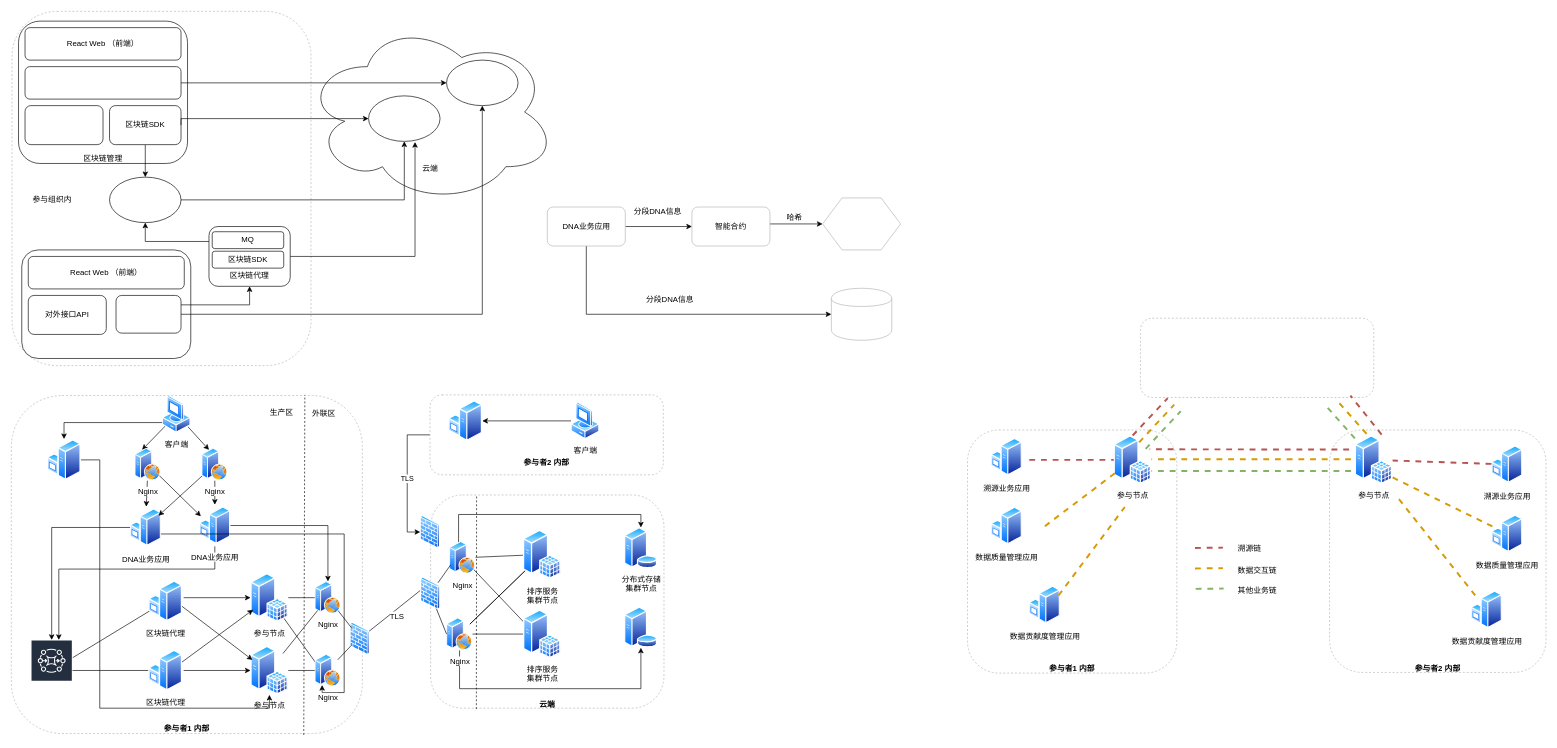
This 1557x748 diagram has some shape labels left out. Here are the shapes that lost their labels. From the top down, the box of each, then its label:
(24, 66, 181, 99): Springboot框架 （后端）
(446, 59, 518, 106): 分布式存储集群
(24, 105, 103, 145): 容器API
(368, 95, 440, 141): 区块链共识 服务集群
(109, 176, 181, 223): 区块链 节点集群
(822, 197, 901, 250): 链上数据
(21, 249, 191, 358): 分布式业务应用(DAPP)
(115, 295, 181, 333): Java Springboot （后端）
(831, 288, 892, 340): 分布式存储
(1140, 318, 1374, 397): 参与者3 ...
(448, 400, 482, 441): 参与者2 服务器组...
(47, 439, 81, 480): 区块链管理服务
(30, 639, 72, 701): Rabbit MQ 集群
